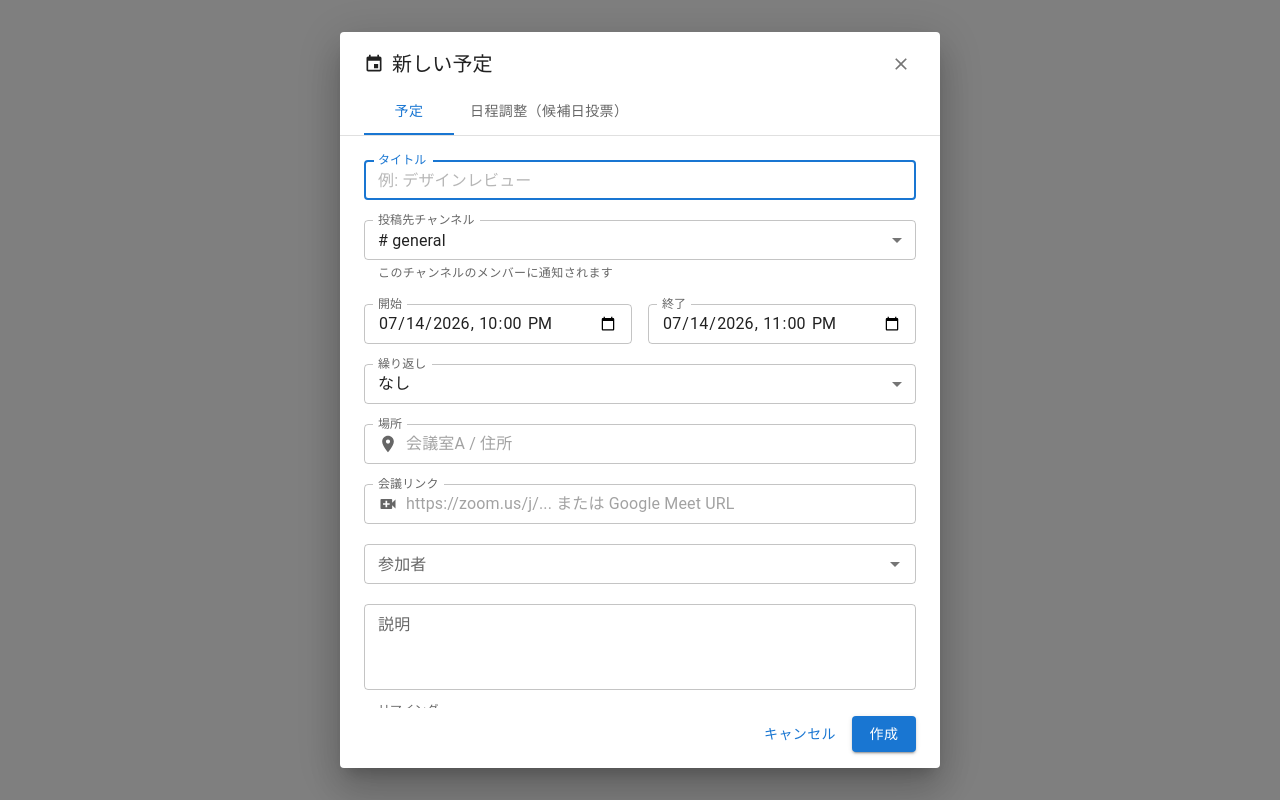
Scenario: EventDialog › 日程調整モードのバリデーション › 候補日が 0 件のまま送信するとエラー
Click the tab with aria-label "poll-tab" at coordinates (549, 112), box [454, 88, 644, 136]
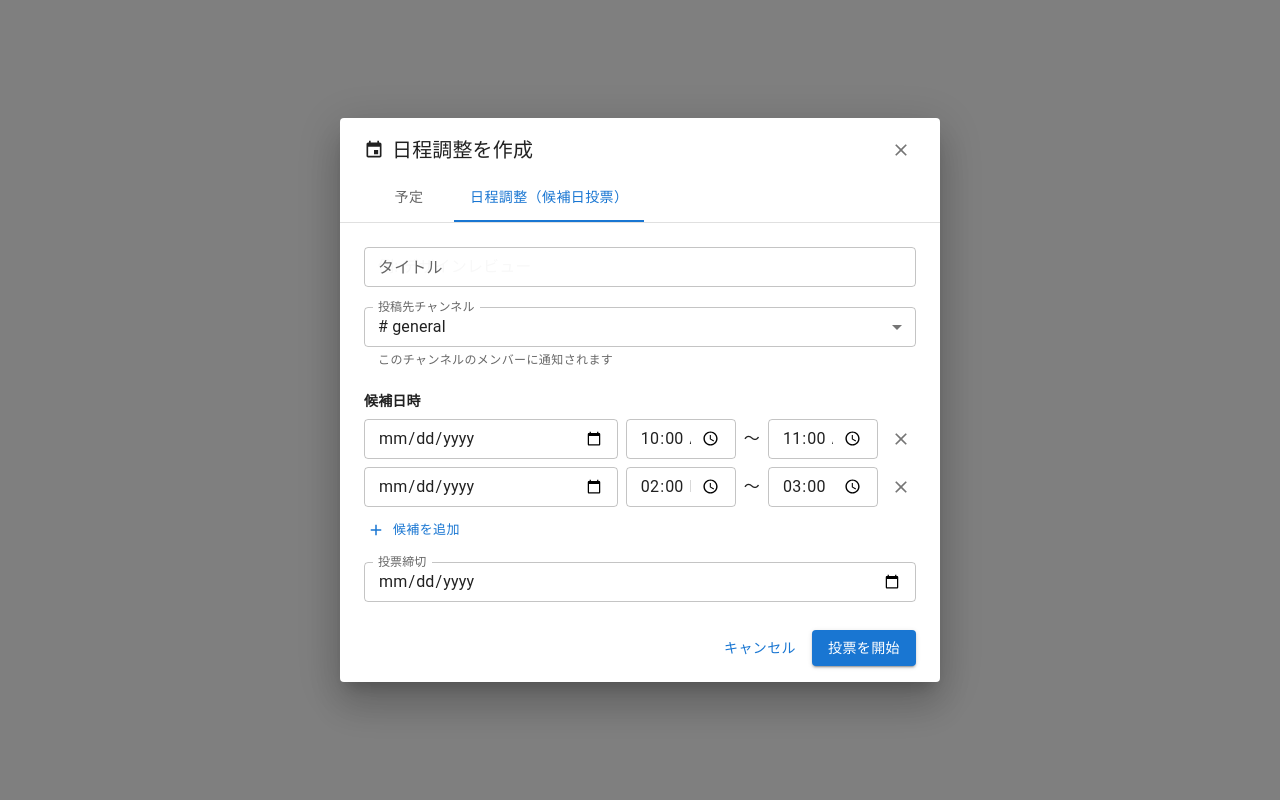
Type "P" into the field named "event-title" at coordinates (640, 267), box [364, 247, 916, 287]
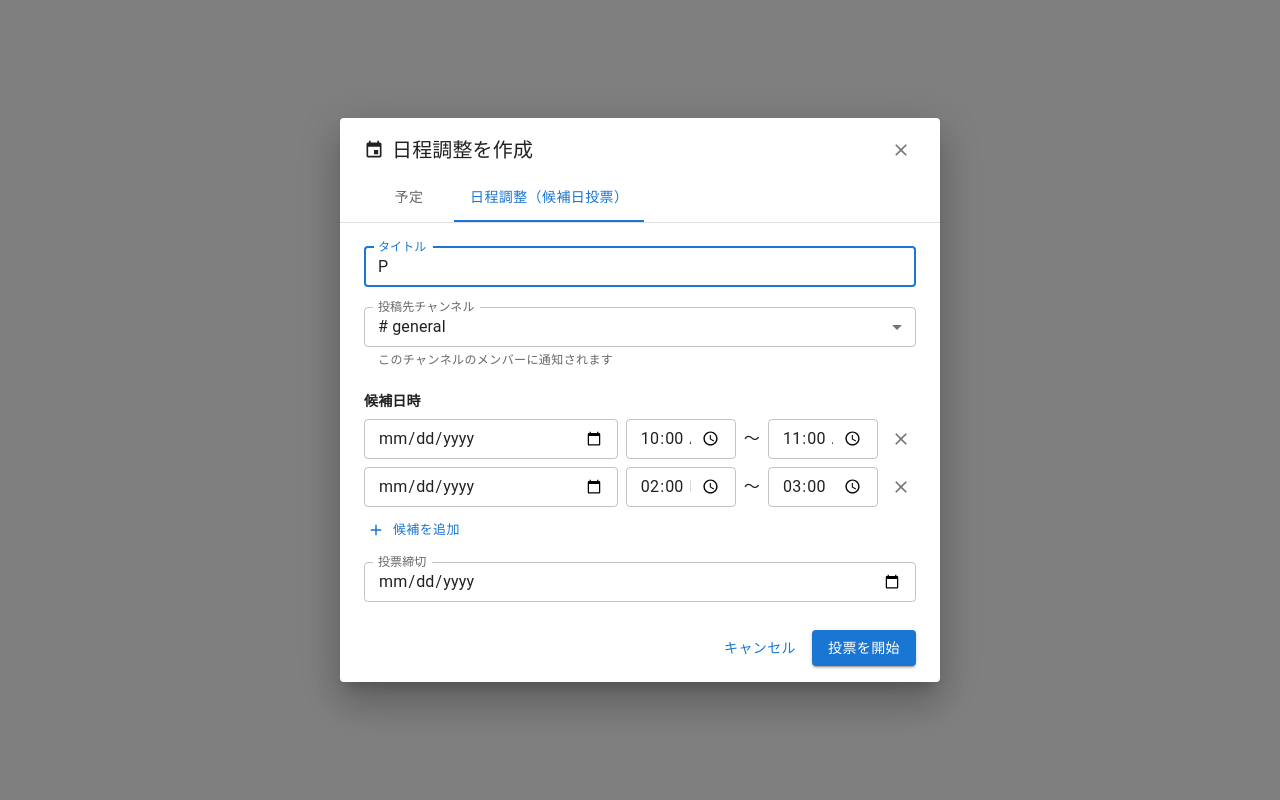
# 既定で 2 件あるので両方の date が空のまま → 0 件入力 として扱われる
Click the button with aria-label "event-dialog-submit" at coordinates (864, 648), box [812, 630, 916, 666]
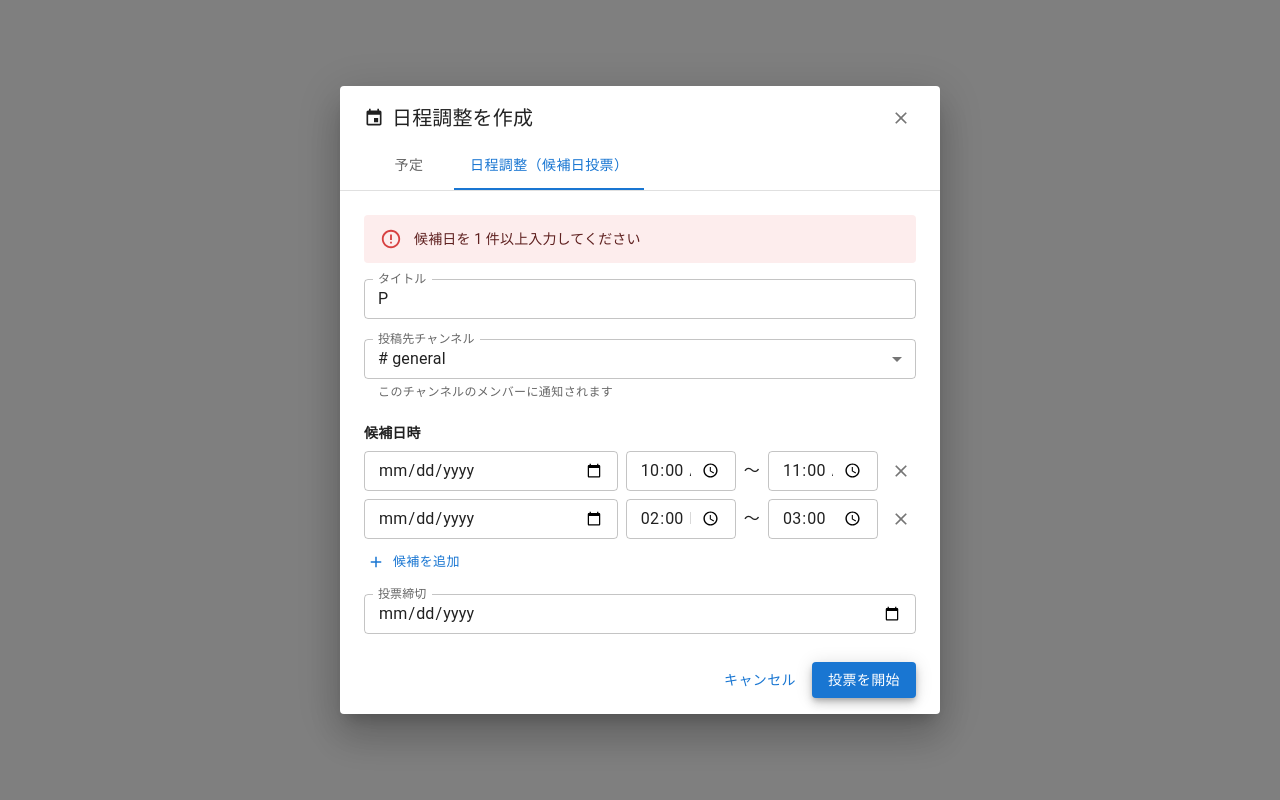
Check: the message with test id "event-dialog-error" shows "候補日", box [364, 215, 916, 263]
